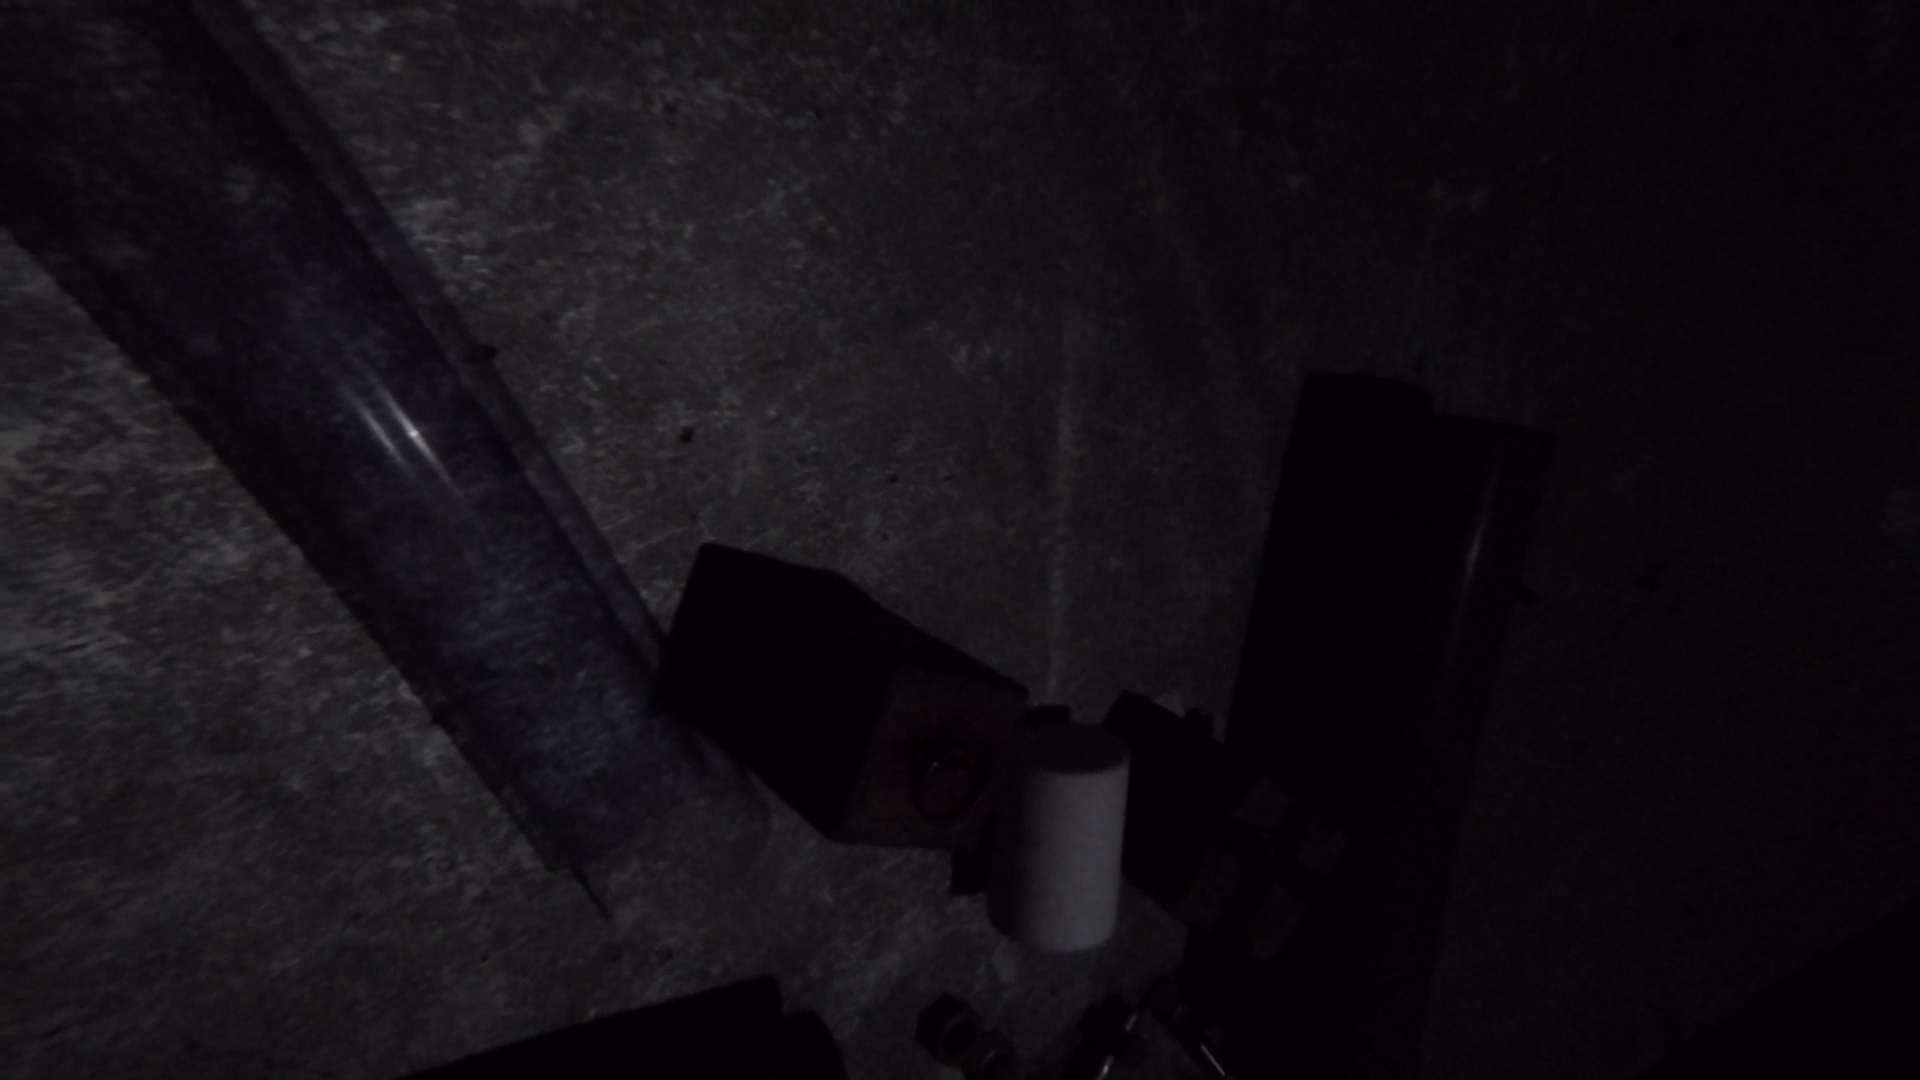bolt: (1158, 992, 1229, 1080), (1091, 1004, 1141, 1080)
led_block: (651, 542, 1031, 851), (1097, 691, 1346, 960)
nut: (918, 993, 984, 1065), (1083, 1009, 1145, 1063), (967, 1029, 1023, 1080)
pipe: (1, 5, 775, 931), (1275, 413, 1553, 1072), (984, 725, 1133, 953), (513, 1006, 856, 1080)
